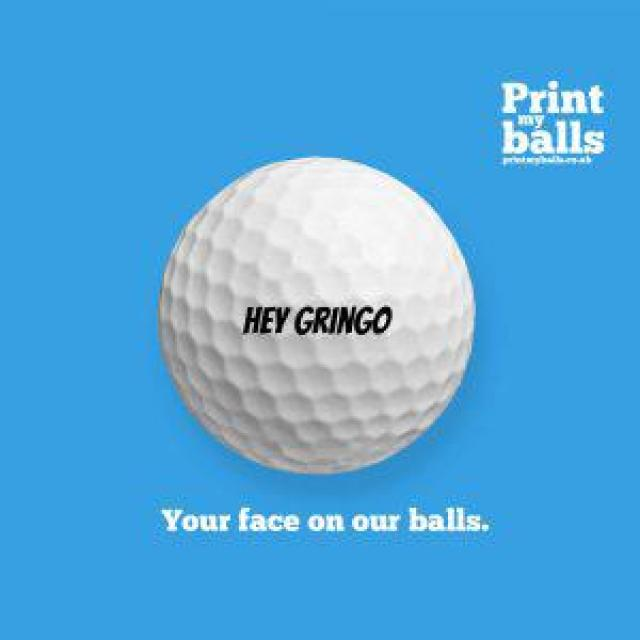ball: (154, 151, 481, 480)
